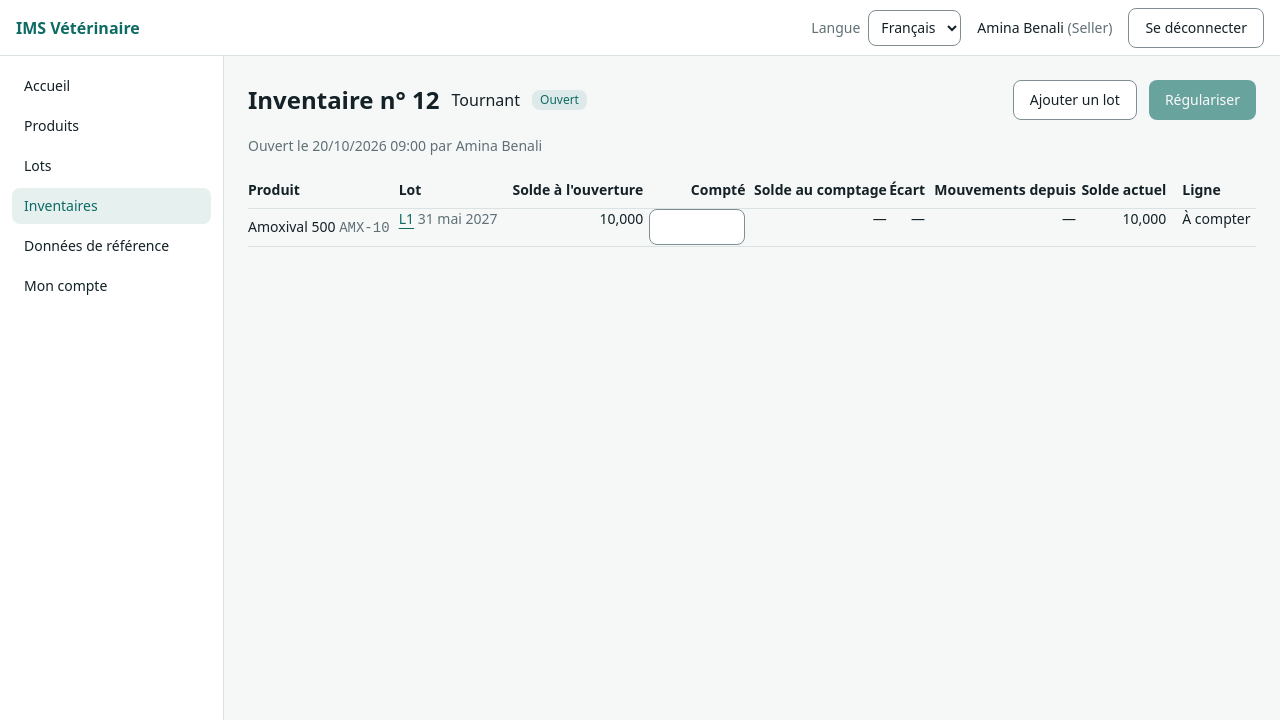
Test: inventory counts (frontend.md §4.4, W5) › shows a refused quantity on its line
This screenshot has width=1280, height=720.
Step 1. Type "1.5" into the field named "Quantité comptée — Amoxival 500 — L1" → x=697, y=227, box [649,209,745,245]
Then press Enter
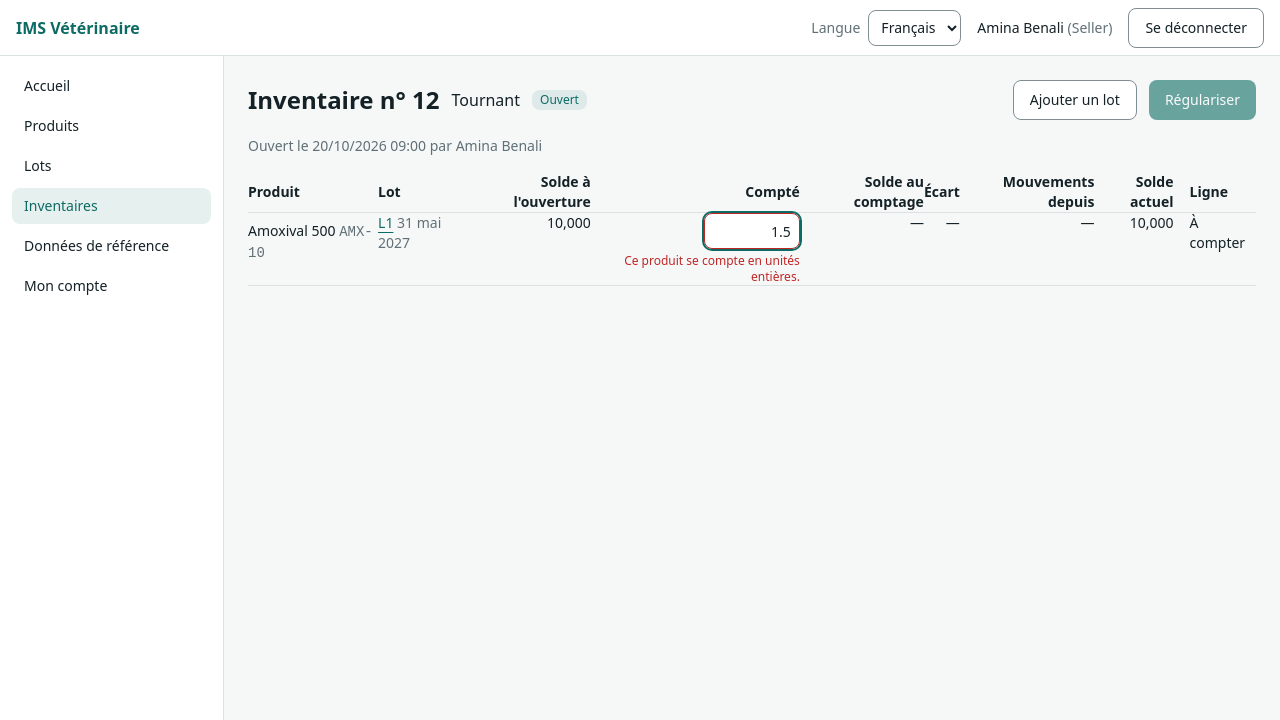
Expected: the text "Ce produit se compte en unités entières." is shown, [624,252,800,285]
